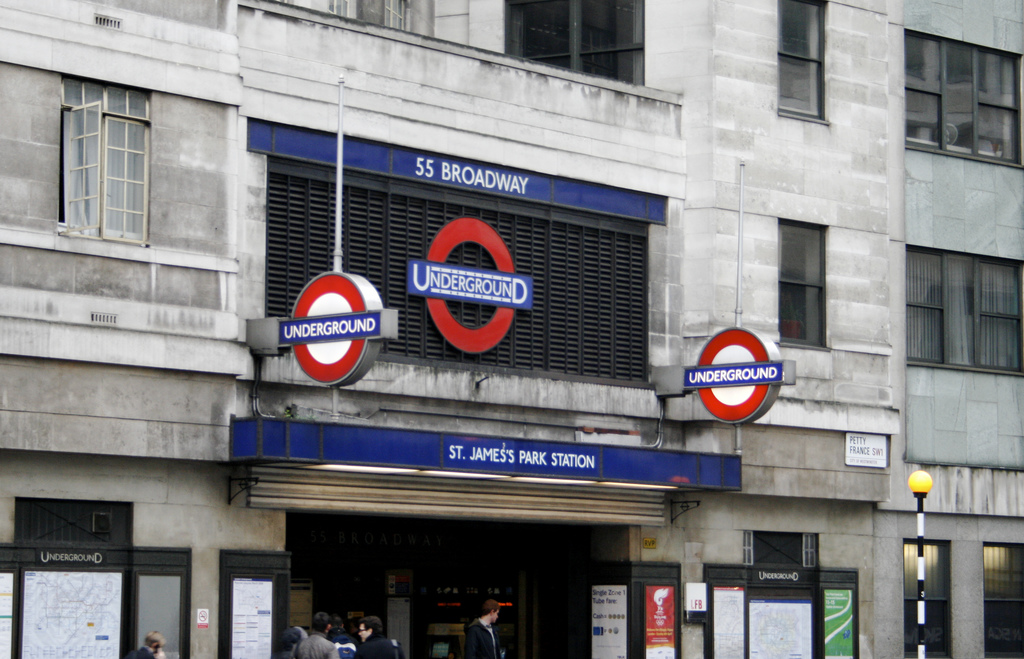London Underground: (419, 215, 532, 356), (280, 277, 384, 370), (680, 322, 779, 417)
